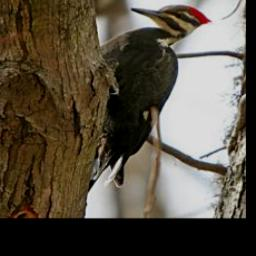Woodpecker: (86, 3, 213, 193)
